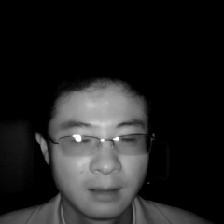normal: (33, 51, 168, 219)
